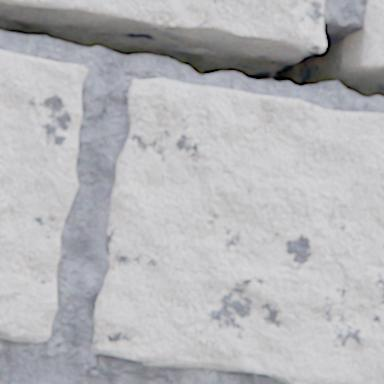brick: (92, 78, 383, 383), (0, 50, 88, 341), (0, 0, 324, 52), (361, 0, 383, 68)
crack: (0, 1, 383, 97)
